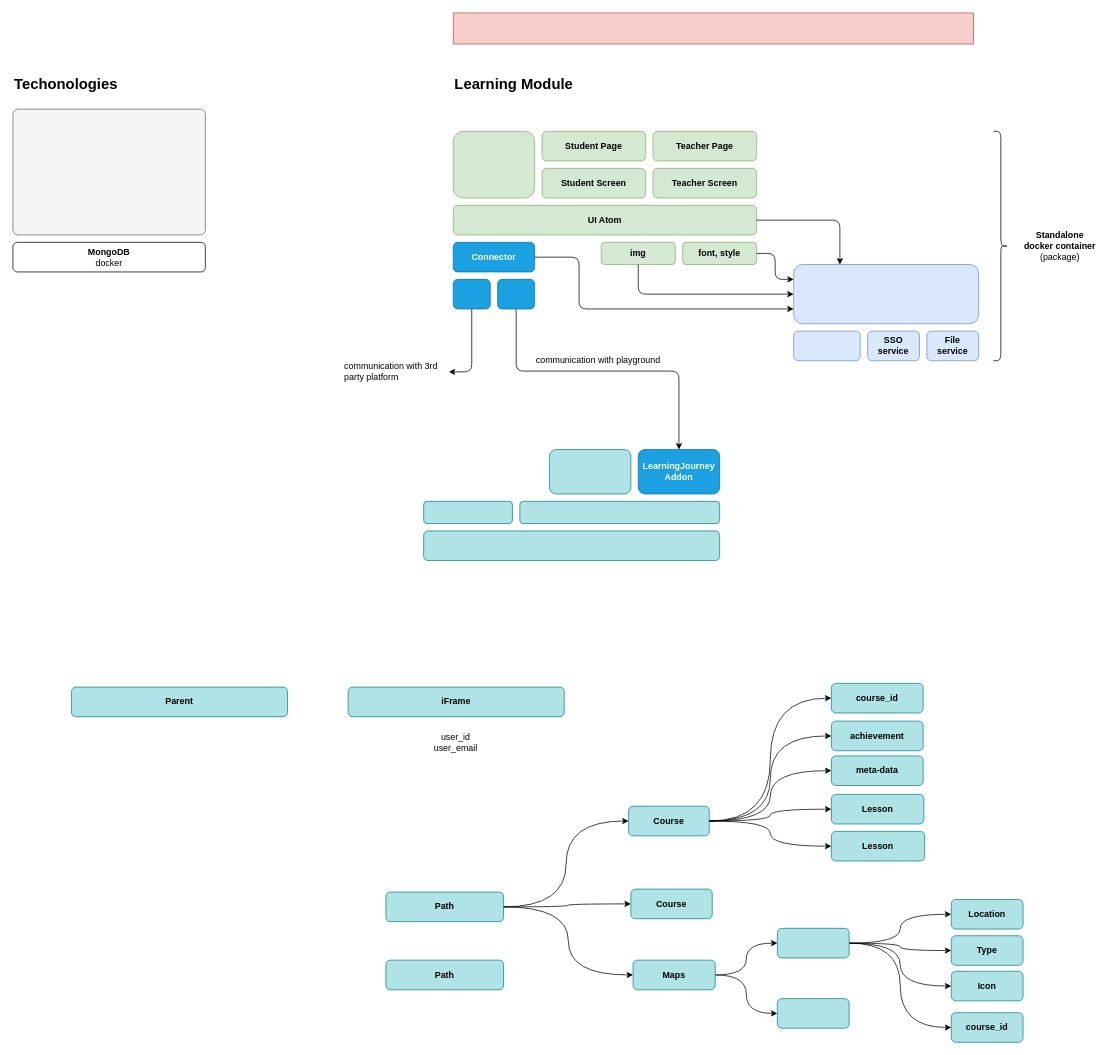
Some shapes in this 1110 by 1055 pixel diagram are drawn without their labels. Here are the shapes that lost their labels. From the top down, the centre of each, then its label:
At point (713, 28): "Landing page for Learning Journey".
At point (108, 171): "NextJS Typescript Tailwind CSS".
At point (494, 164): "Social Media Page".
At point (471, 294): "3rd".
At point (516, 294): "PG".
At point (886, 294): "Backend Service".
At point (826, 345): "mongoose".
At point (590, 471): "Other Addon".
At point (467, 512): "Builtin func".
At point (619, 512): "Addon Manager".
At point (571, 545): "Playground / autowrx".
At point (813, 943): "Nodes".
At point (813, 1013): "Background".
